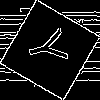Y: (25, 25, 78, 69)
